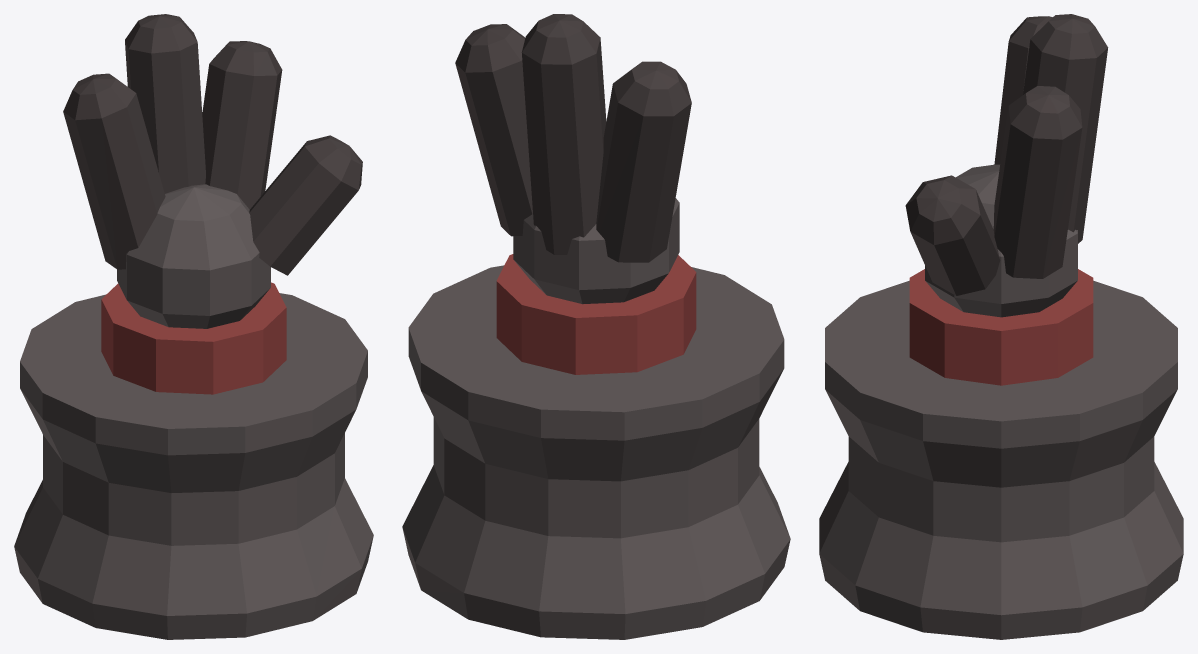
File: void_sculpture_f.obj
The picture shows the model from 3 angles, left to right: view 1: azimuth 30°, elevation 25°; view 2: azimuth 150°, elevation 25°; view 3: azimuth 270°, elevation 25°; orthographic projection. The views are drawn at different scales.
Visible parts, largest first — view 1: void_sculpture_f_0, void_sculpture_f_2, void_sculpture_f_1, void_sculpture_f_3, void_sculpture_f_4, void_sculpture_f_5, void_sculpture_f_6; view 2: void_sculpture_f_0, void_sculpture_f_4, void_sculpture_f_1, void_sculpture_f_3, void_sculpture_f_5, void_sculpture_f_2; view 3: void_sculpture_f_0, void_sculpture_f_1, void_sculpture_f_5, void_sculpture_f_6, void_sculpture_f_4, void_sculpture_f_2, void_sculpture_f_3.
Part boxes in pixels (left/top/right/bottom): void_sculpture_f_0: left=14, top=293, right=373, bottom=639; void_sculpture_f_2: left=117, top=184, right=270, bottom=328; void_sculpture_f_1: left=101, top=282, right=286, bottom=394; void_sculpture_f_3: left=63, top=73, right=165, bottom=269; void_sculpture_f_4: left=125, top=14, right=205, bottom=193; void_sculpture_f_5: left=202, top=41, right=282, bottom=209; void_sculpture_f_6: left=249, top=135, right=362, bottom=275; void_sculpture_f_0: left=402, top=265, right=790, bottom=639; void_sculpture_f_4: left=521, top=14, right=606, bottom=254; void_sculpture_f_1: left=496, top=254, right=696, bottom=374; void_sculpture_f_3: left=596, top=61, right=691, bottom=262; void_sculpture_f_5: left=455, top=24, right=532, bottom=236; void_sculpture_f_2: left=513, top=198, right=679, bottom=304; void_sculpture_f_0: left=819, top=280, right=1183, bottom=639; void_sculpture_f_1: left=909, top=269, right=1093, bottom=385; void_sculpture_f_5: left=993, top=86, right=1082, bottom=278; void_sculpture_f_6: left=905, top=175, right=1000, bottom=295; void_sculpture_f_4: left=1023, top=14, right=1108, bottom=243; void_sculpture_f_2: left=925, top=164, right=1077, bottom=317; void_sculpture_f_3: left=994, top=16, right=1052, bottom=164.
Bounding box in the file's own units: 0.62 × 0.9971 × 0.6044.
